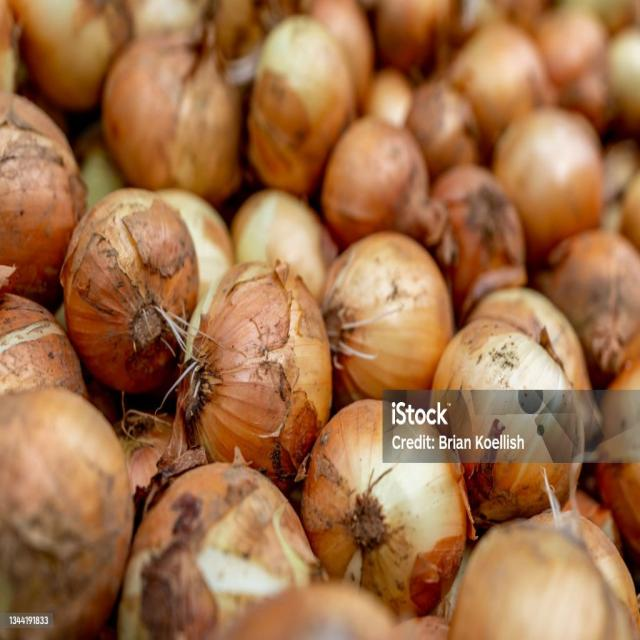mechanical_damage: (255, 278, 351, 497), (76, 203, 196, 340)
